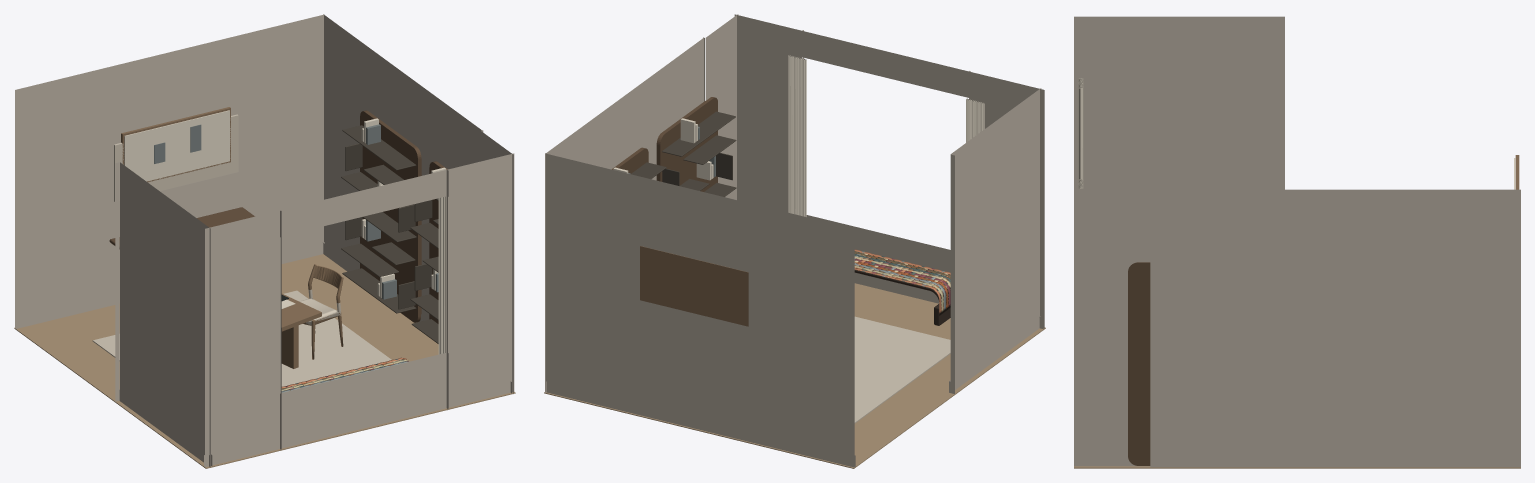
File: formal-1.glb
3 renders of one model, left to right at view 1: azimuth 30°, elevation 25°; view 2: azimuth 150°, elevation 25°; view 3: azimuth 270°, elevation 25°, orthographic. The views are drawn at different scales.
Parts seen in each view (by area): view 1: DESIGN | formal removable wall finish, DESIGN | formal floor finish, DESIGN | Required Blabla bookcase 2, DESIGN | Textile artwork, DESIGN | Formal ground, DESIGN | Required Blabla bookcase 1, DESIGN | Call background textile, DESIGN | Formal soft window edge.001, DESIGN | Working chair facing desk, DESIGN | Required Brera anniversary window bench, DESIGN | Working desk top, DESIGN | Quiet artwork frame (+2 smaller); view 2: DESIGN | formal removable wall finish, DESIGN | formal floor finish, DESIGN | Quiet artwork frame, DESIGN | Formal ground, DESIGN | Required Blabla bookcase 1, DESIGN | Formal soft window edge.001, DESIGN | Required Brera anniversary window bench, DESIGN | Required Blabla bookcase 2, DESIGN | Formal soft window edge; view 3: DESIGN | formal removable wall finish, DESIGN | Required Blabla bookcase 1, DESIGN | formal floor finish, DESIGN | Formal soft window edge.
Boxes of the visible parts, <box> form: DESIGN | formal removable wall finish: <box>15,14,514,466</box>; DESIGN | formal floor finish: <box>14,254,515,468</box>; DESIGN | Required Blabla bookcase 2: <box>341,110,421,322</box>; DESIGN | Textile artwork: <box>124,110,229,181</box>; DESIGN | Formal ground: <box>92,290,391,386</box>; DESIGN | Required Blabla bookcase 1: <box>410,161,447,343</box>; DESIGN | Call background textile: <box>114,114,238,201</box>; DESIGN | Formal soft window edge.001: <box>438,196,446,354</box>; DESIGN | Working chair facing desk: <box>299,264,343,359</box>; DESIGN | Required Brera anniversary window bench: <box>281,357,409,392</box>; DESIGN | Working desk top: <box>281,293,321,331</box>; DESIGN | Quiet artwork frame: <box>121,107,230,182</box>; DESIGN | formal removable wall finish: <box>545,14,1044,467</box>; DESIGN | formal floor finish: <box>544,283,1045,468</box>; DESIGN | Quiet artwork frame: <box>640,246,748,326</box>; DESIGN | Formal ground: <box>854,316,950,423</box>; DESIGN | Required Blabla bookcase 1: <box>656,97,736,196</box>; DESIGN | Formal soft window edge.001: <box>788,55,806,216</box>; DESIGN | Required Brera anniversary window bench: <box>854,249,950,325</box>; DESIGN | Required Blabla bookcase 2: <box>611,147,666,178</box>; DESIGN | Formal soft window edge: <box>966,98,984,142</box>; DESIGN | formal removable wall finish: <box>1074,16,1520,467</box>; DESIGN | Required Blabla bookcase 1: <box>1128,262,1150,465</box>; DESIGN | formal floor finish: <box>1074,466,1520,468</box>; DESIGN | Formal soft window edge: <box>1078,78,1083,181</box>.
Bounding box in the file's own units: 3.71 × 2.74 × 3.98.
